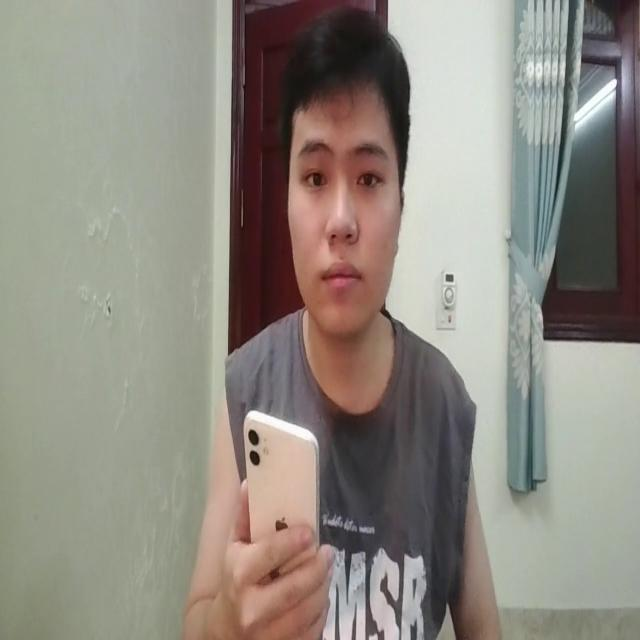phone: (242, 403, 322, 573)
student: (188, 8, 504, 640)
